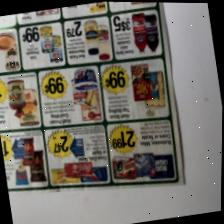paper: (0, 0, 199, 219)
